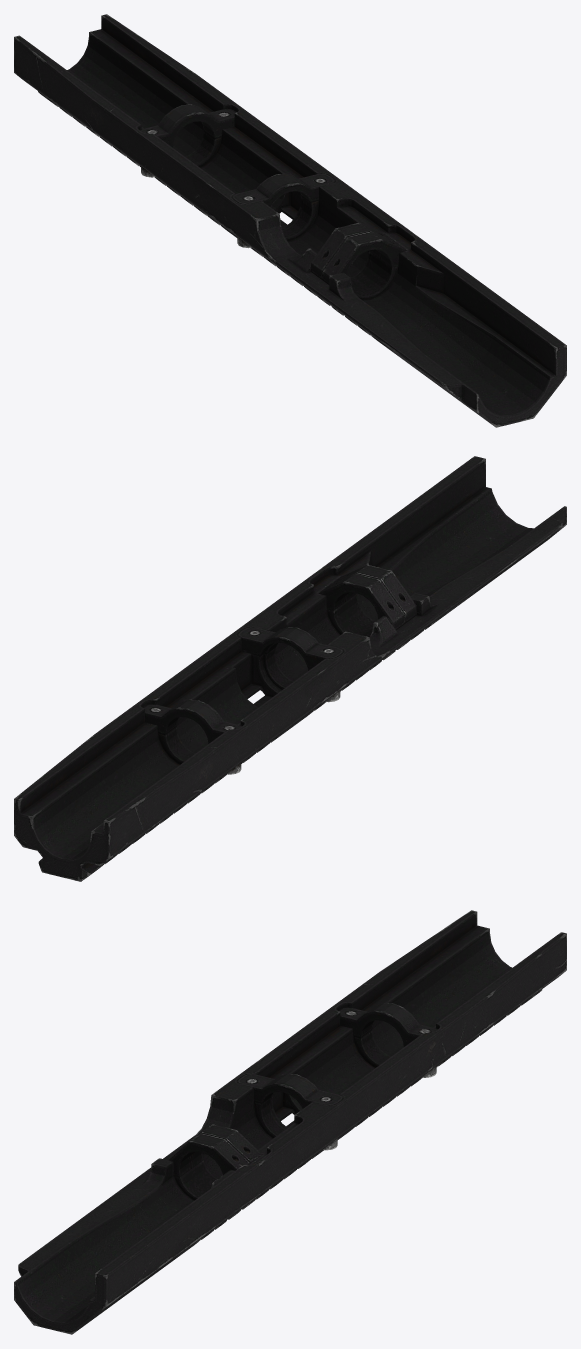
3 views of the same model, one above another, from view 1: azimuth 30°, elevation 25°; view 2: azimuth 150°, elevation 25°; view 3: azimuth 330°, elevation 25° (orthographic). The views are drawn at different scales.
Visible parts, largest first — view 1: TW_5addbfbb5acfc400194dbcf7_PZ_Import; view 2: TW_5addbfbb5acfc400194dbcf7_PZ_Import; view 3: TW_5addbfbb5acfc400194dbcf7_PZ_Import.
Boxes of the visible parts, box(x1,y1,x2,y2) form: TW_5addbfbb5acfc400194dbcf7_PZ_Import: box(14, 14, 566, 427); TW_5addbfbb5acfc400194dbcf7_PZ_Import: box(14, 456, 566, 881); TW_5addbfbb5acfc400194dbcf7_PZ_Import: box(14, 910, 566, 1334).
Size of the model in its own units: 0.0258 by 0.1948 by 0.0177.
Materials: 1 (1 with a texture image).
